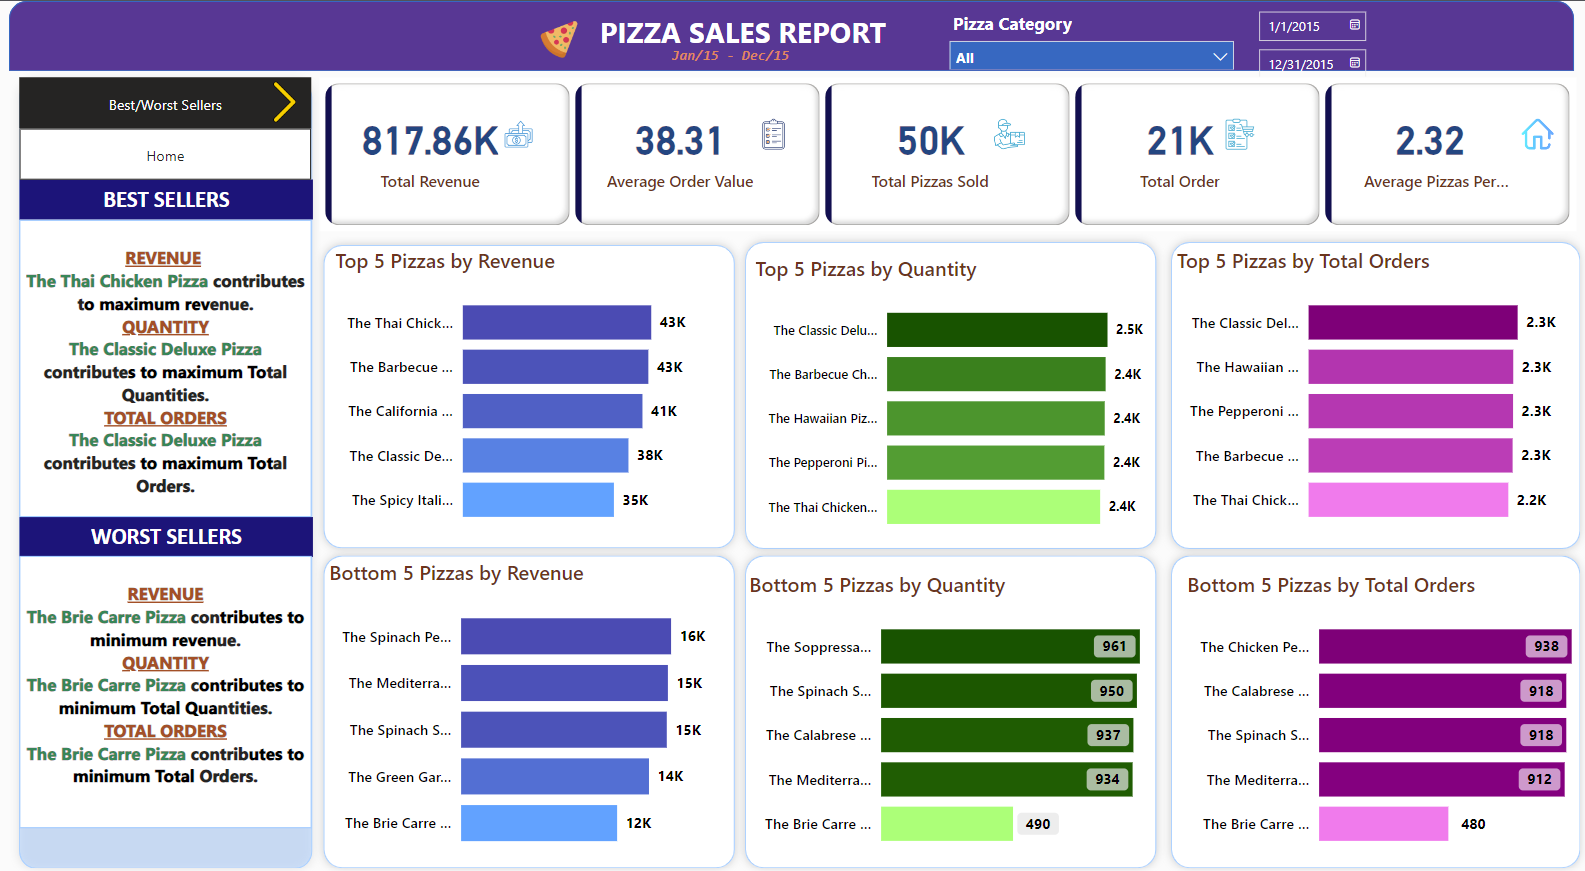

What the dashboard file says about the page in this screenshot:
{"tool":"powerbi","page":{"name":"Best/Worst Sellers","canvas":[1500,820],"ordinal":1},"visuals":[{"type":"cardVisual","fields":{"Data":["pizza_sales.Total Revenue","pizza_sales.Average Order Value","pizza_sales.Total Pizzas Sold","pizza_sales.Total Order","pizza_sales.Average Pizzas Per Order"]},"box":[307,71,1176.5,143.7],"z":0},{"type":"shape","box":[17.2,0,1465.1,65.6],"z":1000},{"type":"textbox","box":[543,5.3,321.2,47.9],"z":2000},{"type":"textbox","box":[612.2,35.5,159.7,35.5],"z":3000},{"type":"image","box":[406.4,12.4,252,46.1],"z":4000},{"type":"shape","box":[303.4,220,401,299.9],"z":5000},{"type":"shape","box":[697.4,218.3,401,303.4],"z":6000},{"type":"shape","box":[18.7,65.6,290.5,754.4],"z":7000},{"type":"shape","box":[1096.6,218.3,399.3,303.4],"z":8000},{"type":"textbox","box":[26.6,482.6,274.9,37.5],"z":9000},{"type":"textbox","box":[26.6,204.6,273.3,278],"z":10000},{"type":"textbox","box":[26.6,167.1,274.9,37.5],"z":11000},{"type":"textbox","box":[26.6,520.1,273.3,254.6],"z":12000},{"type":"slicer","fields":{"Values":["pizza_sales.pizza_category"]},"box":[888,4.4,285.7,59.8],"z":13000},{"type":"slicer","fields":{"Values":["pizza_sales.order_date"]},"box":[1173.7,0,219.2,70.9],"z":14000},{"type":"shape","box":[303.4,511,401,308.8],"z":15000},{"type":"shape","box":[697.4,511,401,308.8],"z":16000},{"type":"shape","box":[1096.6,511,399.3,308.8],"z":17000},{"type":"barChart","title":"Top 5 Pizzas by Revenue","fields":{"Category":["pizza_sales.pizza_name"],"Y":["pizza_sales.Total Revenue"]},"box":[317.6,230.7,372.6,275],"z":18000},{"type":"barChart","title":"Bottom 5 Pizzas by Revenue","fields":{"Category":["pizza_sales.pizza_name"],"Y":["pizza_sales.Total Revenue"]},"box":[312.3,521.7,385.1,287.5],"z":19000},{"type":"barChart","title":"Top 5 Pizzas by Quantity","fields":{"Category":["pizza_sales.pizza_name"],"Y":["pizza_sales.Total Pizzas Sold"]},"box":[710.9,237,385.3,274.6],"z":20000},{"type":"barChart","title":"Bottom 5 Pizzas by Quantity","fields":{"Category":["pizza_sales.pizza_name"],"Y":["pizza_sales.Total Pizzas Sold"]},"box":[704.5,534.1,385.1,275],"z":21000},{"type":"barChart","title":"Top 5 Pizzas by Total Orders","fields":{"Category":["pizza_sales.pizza_name"],"Y":["pizza_sales.Total Order"]},"box":[1105.5,230.7,385.1,275],"z":22000},{"type":"barChart","title":"Bottom 5 Pizzas by Total Orders","fields":{"Category":["pizza_sales.pizza_name"],"Y":["pizza_sales.Total Order"]},"box":[1114.4,534.1,385.1,275],"z":23000},{"type":"pageNavigator","box":[26.6,71.8,273.3,48.4],"z":24000},{"type":"pageNavigator","box":[26.6,118.7,273.3,48.4],"z":25000},{"type":"image","box":[249.9,70.3,50,48.4],"z":26000}]}

Visuals, with their boxes in screenshot pixels (x1, y1, x2, y2), scaled from the page's 1500x820 canvas onto the 1585x871 screenshot:
cardVisual - pizza_sales.Total Revenue x pizza_sales.Average Order Value: detection(324, 75, 1568, 228)
shape: detection(18, 0, 1566, 70)
textbox: detection(574, 6, 913, 57)
textbox: detection(647, 38, 816, 75)
image: detection(429, 13, 696, 62)
shape: detection(321, 234, 744, 552)
shape: detection(737, 232, 1161, 554)
shape: detection(20, 70, 327, 870)
shape: detection(1159, 232, 1581, 554)
textbox: detection(28, 513, 319, 552)
textbox: detection(28, 217, 317, 513)
textbox: detection(28, 177, 319, 217)
textbox: detection(28, 552, 317, 823)
slicer - pizza_sales.pizza_category: detection(938, 5, 1240, 68)
slicer - pizza_sales.order_date: detection(1240, 0, 1472, 75)
shape: detection(321, 543, 744, 870)
shape: detection(737, 543, 1161, 870)
shape: detection(1159, 543, 1581, 870)
"Top 5 Pizzas by Revenue" barChart: detection(336, 245, 729, 537)
"Bottom 5 Pizzas by Revenue" barChart: detection(330, 554, 737, 860)
"Top 5 Pizzas by Quantity" barChart: detection(751, 252, 1158, 543)
"Bottom 5 Pizzas by Quantity" barChart: detection(744, 567, 1151, 859)
"Top 5 Pizzas by Total Orders" barChart: detection(1168, 245, 1575, 537)
"Bottom 5 Pizzas by Total Orders" barChart: detection(1178, 567, 1584, 859)
pageNavigator: detection(28, 76, 317, 128)
pageNavigator: detection(28, 126, 317, 177)
image: detection(264, 75, 317, 126)
